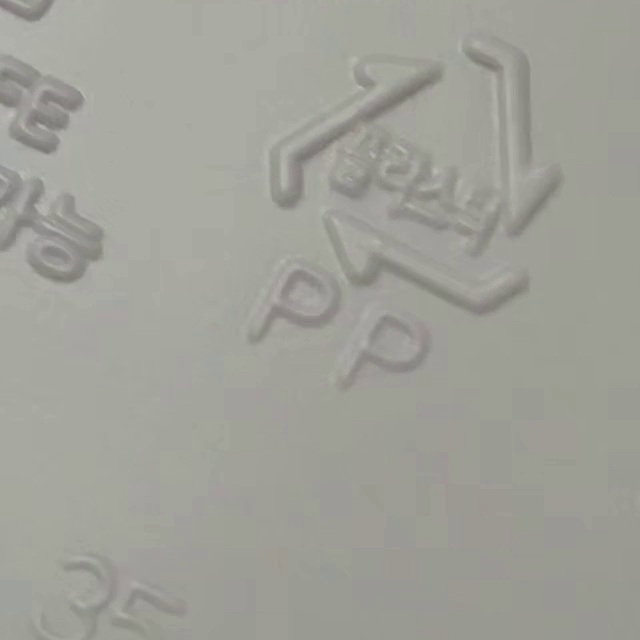Plastic: (273, 33, 563, 310)
